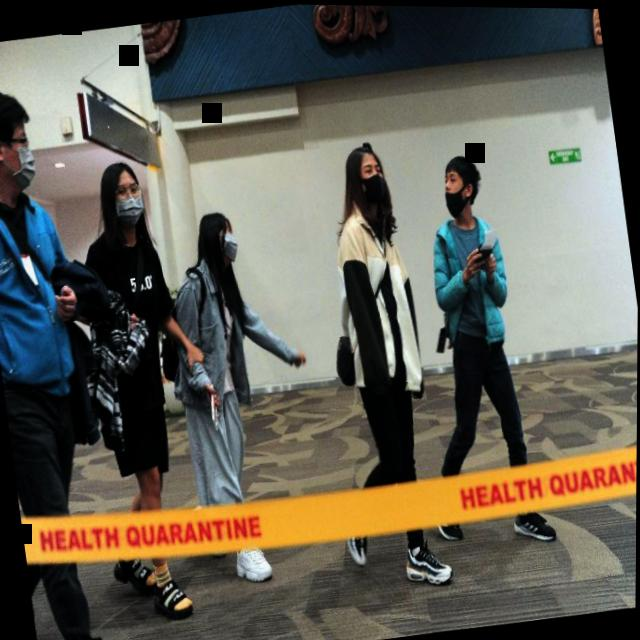Mask: (329, 130, 405, 239), (0, 80, 51, 211), (91, 156, 160, 241), (426, 142, 494, 227), (188, 199, 249, 281)
